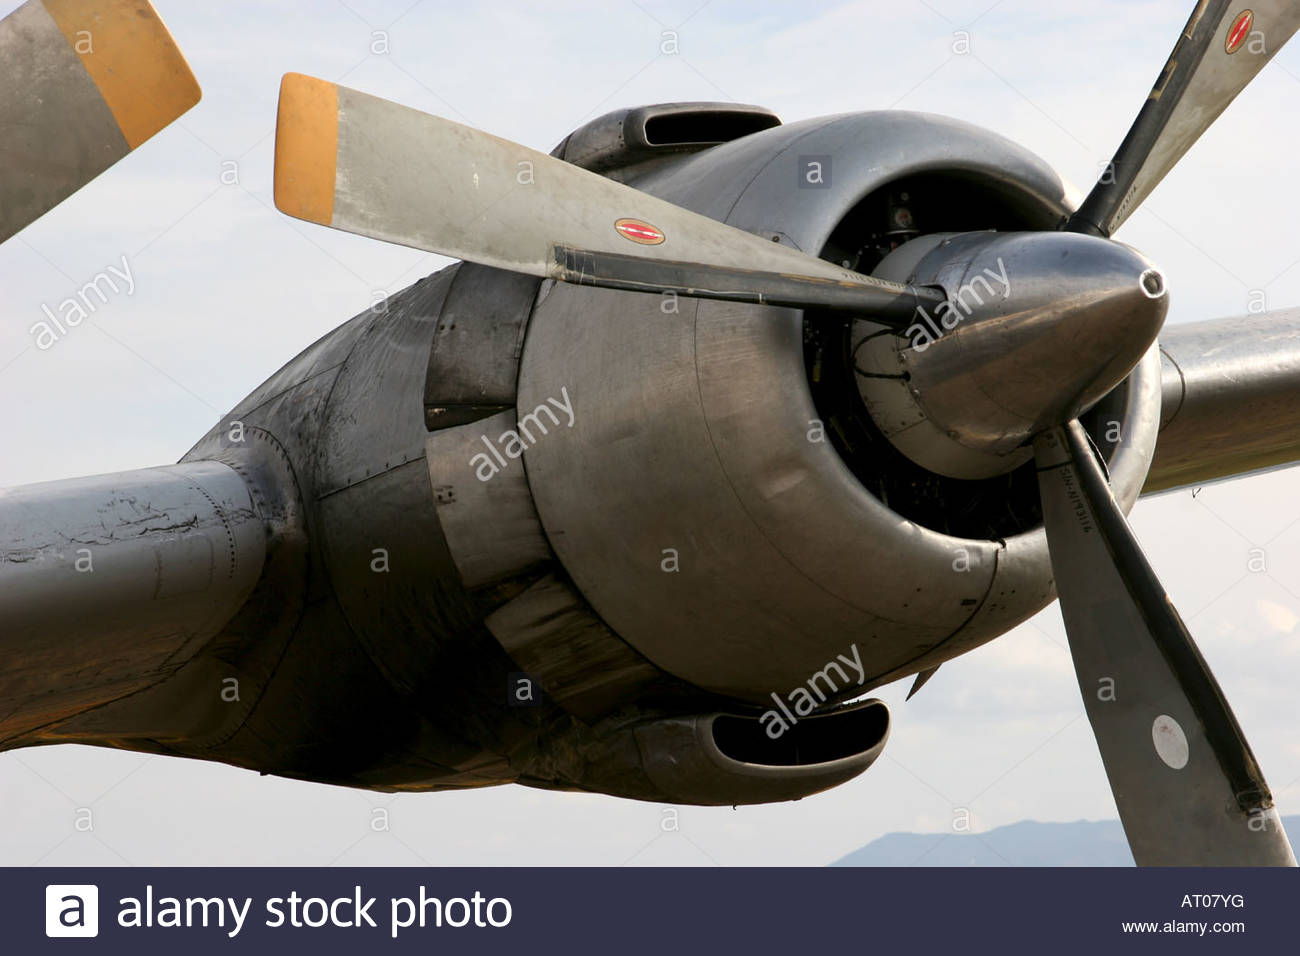Propeller: (291, 14, 1239, 862)
